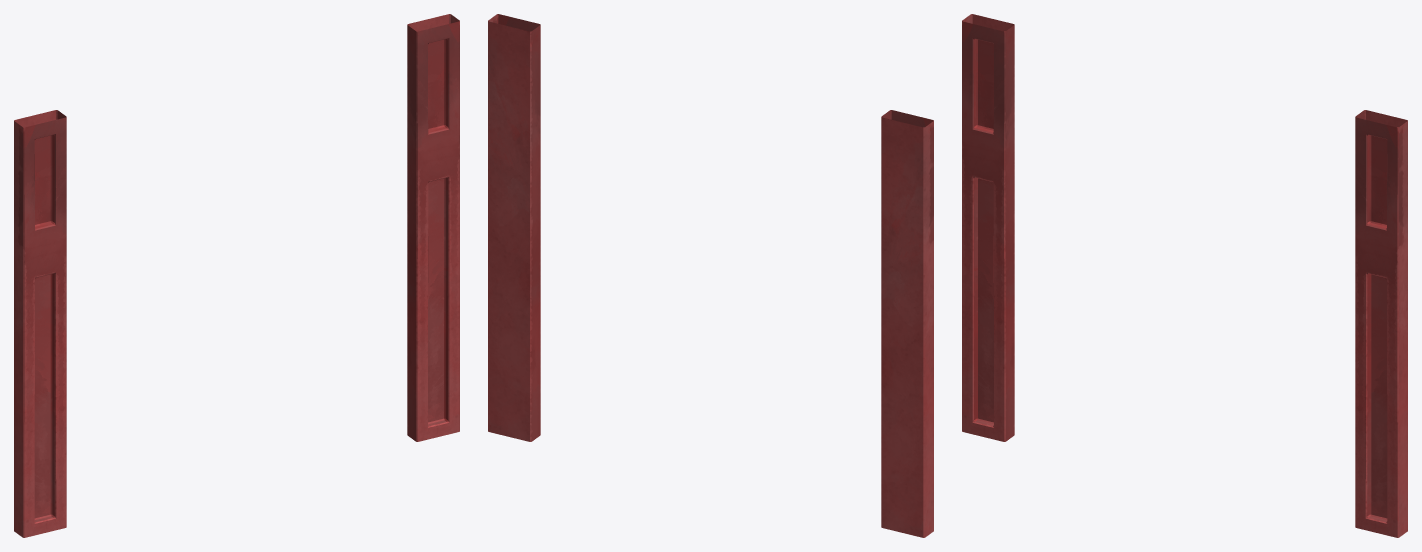
File: Door portal.fbx
The picture shows the model from 3 angles, left to right: view 1: azimuth 30°, elevation 25°; view 2: azimuth 150°, elevation 25°; view 3: azimuth 330°, elevation 25°; orthographic projection.
Parts seen in each view (by area): view 1: Door portal; view 2: Door portal; view 3: Door portal.
Part boxes in pixels (x1,y1,x2,y2): Door portal: (14,14,459,537); Door portal: (488,14,933,537); Door portal: (962,14,1407,537).
Size of the model in its own units: 200 by 180 by 8.04.
